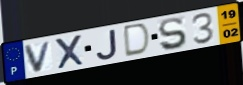3: (191, 12, 216, 46)
D: (124, 22, 153, 59)
J: (95, 28, 119, 61)
S: (157, 16, 189, 52)
V: (23, 39, 54, 74)
X: (53, 33, 87, 71)
